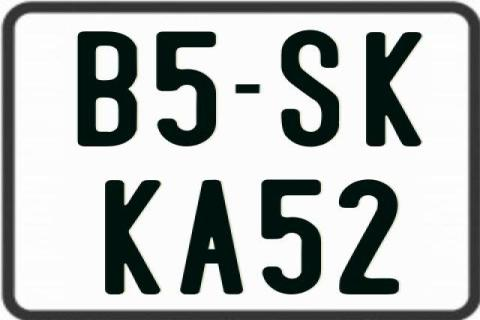0: (154, 29, 218, 145), (260, 179, 324, 295), (336, 177, 396, 295)
A: (177, 177, 243, 293)
B: (75, 31, 135, 147)
K: (103, 180, 165, 294), (365, 31, 426, 145)
S: (279, 28, 339, 150)
